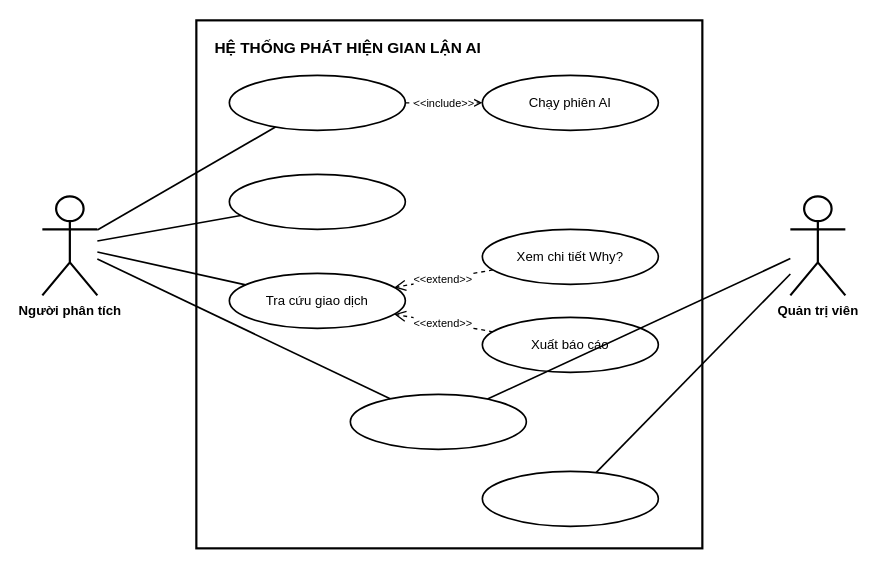
This 877x568 diagram has some shape labels left out. The centre of each missing label's shape, as x and y in pixels:
Quản lý lịch sử: point (438, 421)
Tải file & Phân tích: point (317, 102)
Xem Dashboard: point (317, 201)
Xem thông tin Model: point (570, 498)
